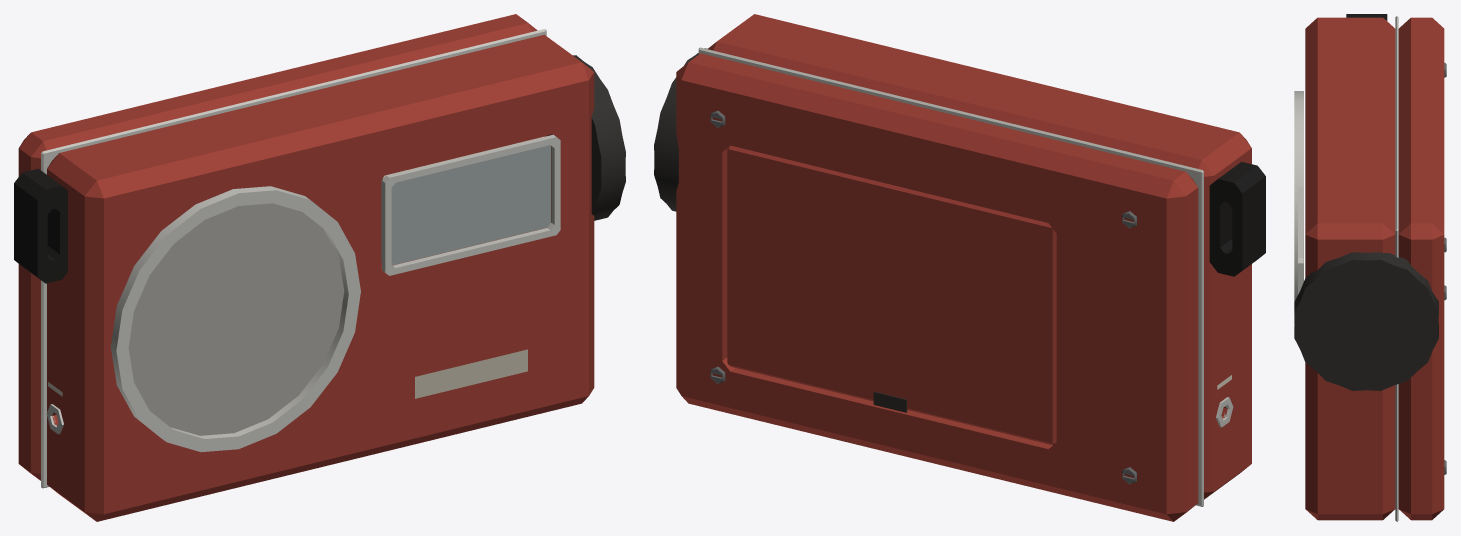
The model's file is transistor-radio-4b8ba295db63.glb.
The picture shows the model from 3 angles, left to right: view 1: azimuth 30°, elevation 25°; view 2: azimuth 150°, elevation 25°; view 3: azimuth 270°, elevation 25°; orthographic projection. The views are drawn at different scales.
Parts seen in each view (by area): view 1: accent-warm, grille-brushed, chrome, glass-clear, rubber-foot, plastic-dark, decal-print; view 2: accent-warm, chrome, rubber-foot, plastic-dark, metal; view 3: accent-warm, plastic-dark, chrome.
Boxes of the visible parts, left/top/right/bottom form: accent-warm: left=18, top=14, right=594, bottom=521; grille-brushed: left=128, top=203, right=344, bottom=435; chrome: left=41, top=29, right=560, bottom=488; glass-clear: left=391, top=145, right=550, bottom=265; rubber-foot: left=14, top=168, right=67, bottom=283; plastic-dark: left=573, top=55, right=625, bottom=220; decal-print: left=415, top=349, right=527, bottom=398; accent-warm: left=676, top=14, right=1251, bottom=521; chrome: left=698, top=47, right=1233, bottom=506; rubber-foot: left=1209, top=161, right=1265, bottom=276; plastic-dark: left=654, top=48, right=907, bottom=412; metal: left=710, top=110, right=1136, bottom=484; accent-warm: left=1305, top=17, right=1444, bottom=520; plastic-dark: left=1294, top=252, right=1438, bottom=390; chrome: left=1294, top=16, right=1398, bottom=521.
Bounding box in the file's own units: 0.137 × 0.08 × 0.0372.
